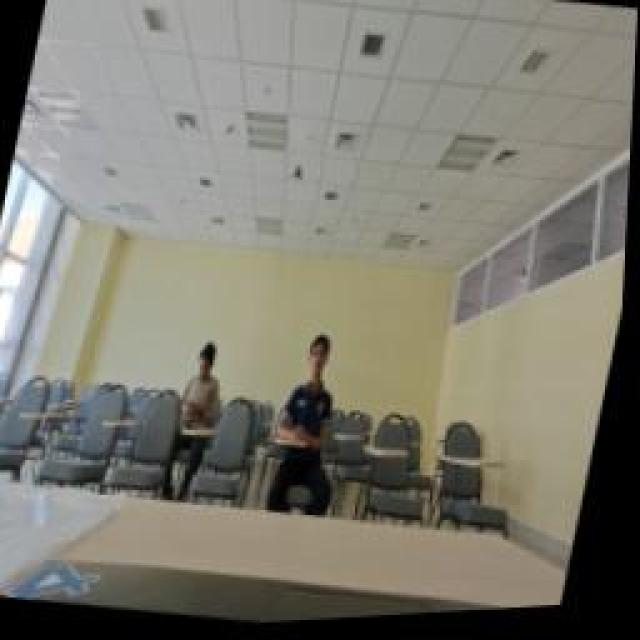phone: (180, 338, 238, 440)
study: (280, 318, 358, 458)
